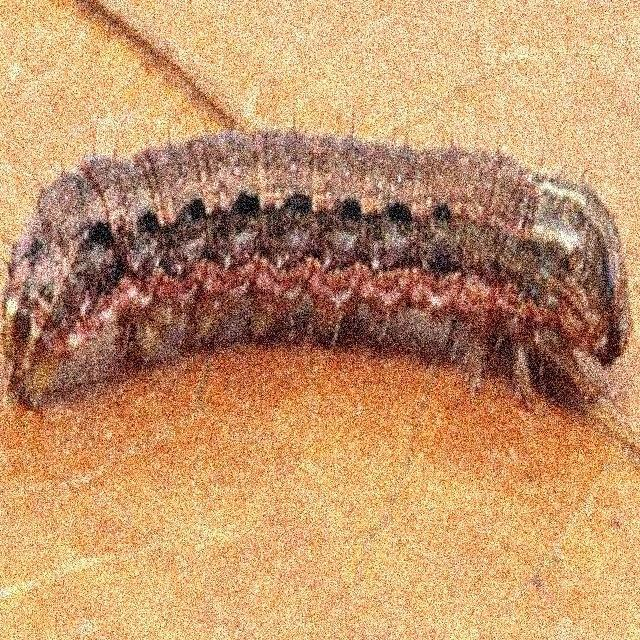gusano_cogollero: (4, 121, 626, 386)
